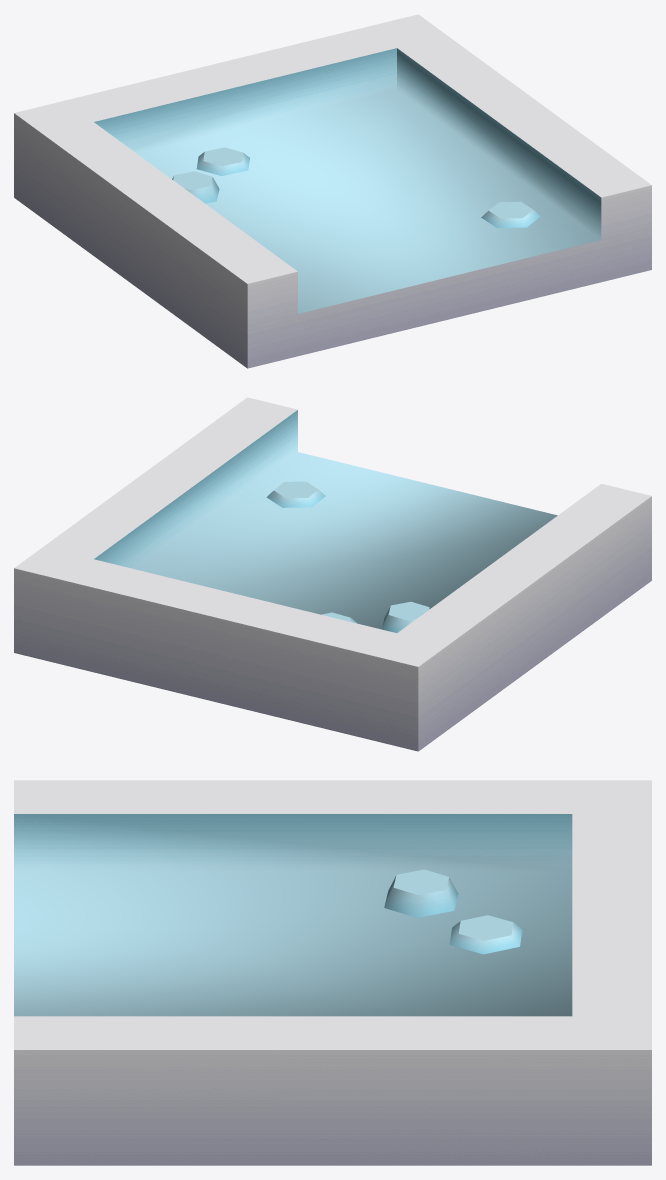
Rendered from tower-defense-kit--snow-tile-end.glb.
3 renders of one model, top to bottom at view 1: azimuth 30°, elevation 25°; view 2: azimuth 150°, elevation 25°; view 3: azimuth 270°, elevation 25°, orthographic. The views are drawn at different scales.
Visible parts, largest first — view 1: snow-tile-end; view 2: snow-tile-end; view 3: snow-tile-end.
Part boxes in pixels (x1,y1,x2,y2): snow-tile-end: (14, 14, 651, 368); snow-tile-end: (14, 397, 651, 751); snow-tile-end: (14, 780, 651, 1165).
Bounding box in the file's own units: 1 × 0.2 × 1.
Materials: 1 (1 with a texture image).
